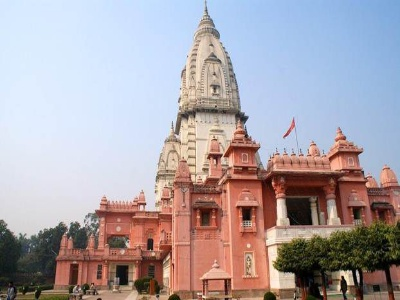gopuram: (164, 30, 255, 144)
